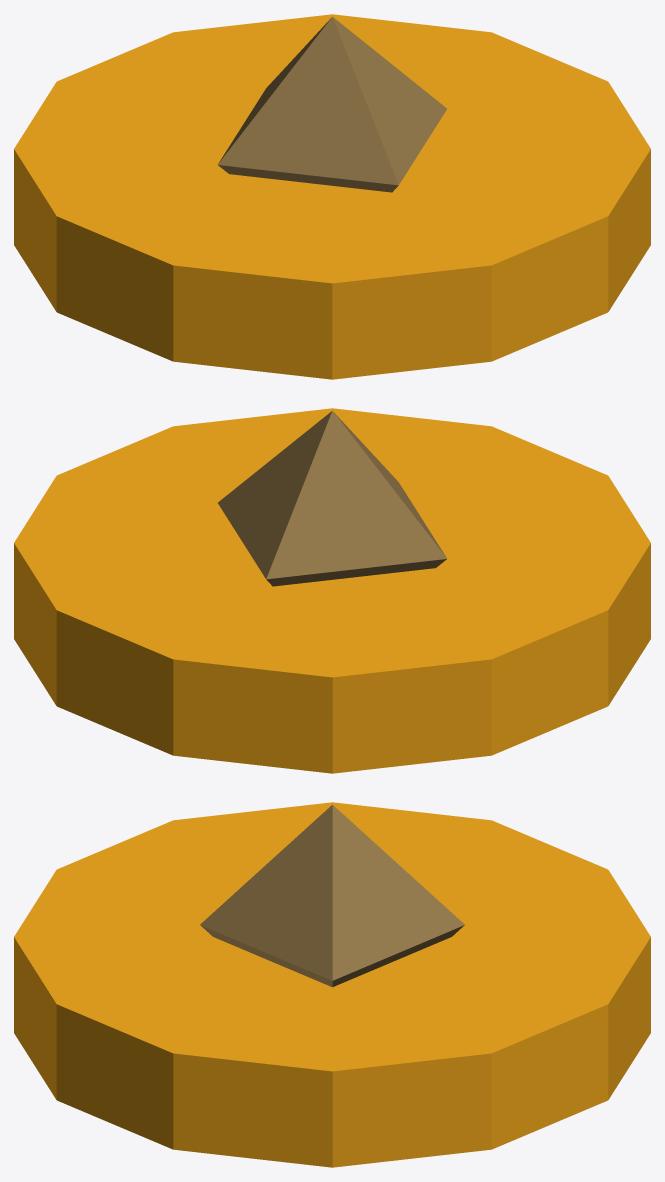
File: gold_coin.obj
3 views of the same model, one above another, from view 1: azimuth 30°, elevation 25°; view 2: azimuth 150°, elevation 25°; view 3: azimuth 270°, elevation 25° (orthographic).
Parts seen in each view (by area): view 1: models/items/gold_coin.obj; view 2: models/items/gold_coin.obj; view 3: models/items/gold_coin.obj.
Boxes of the visible parts, box(x1,y1,x2,y2) form: models/items/gold_coin.obj: box(14, 14, 650, 379); models/items/gold_coin.obj: box(14, 408, 650, 773); models/items/gold_coin.obj: box(14, 802, 650, 1167).
Bounding box in the file's own units: 0.96 × 0.4 × 0.96.
